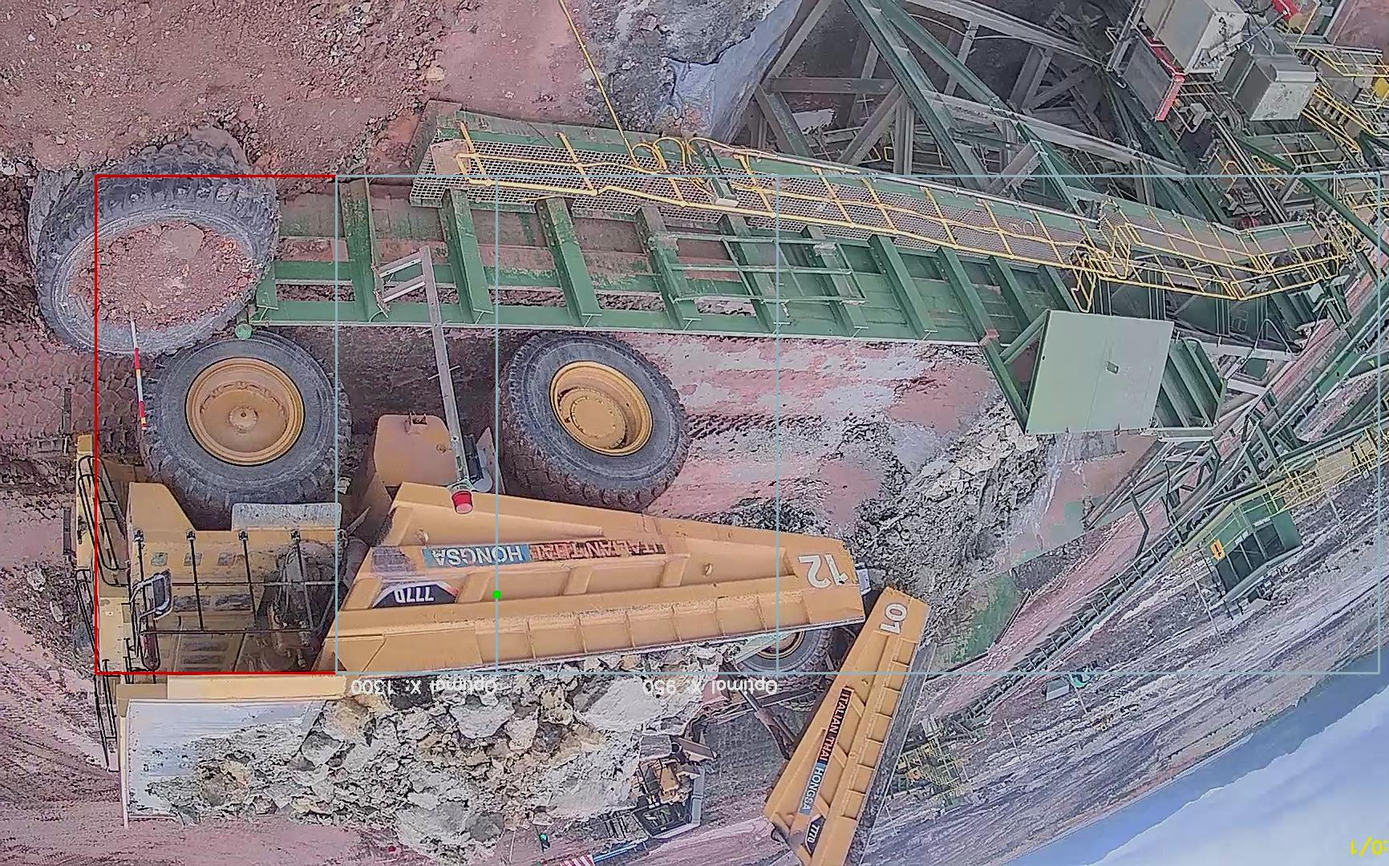company: (407, 526, 668, 577)
full_load: (328, 653, 691, 854)
mining_truck: (51, 318, 882, 864)
tail_number: (797, 547, 853, 595)
truck_size: (380, 582, 458, 614)
